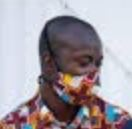with_facemask: (52, 68, 112, 106)
